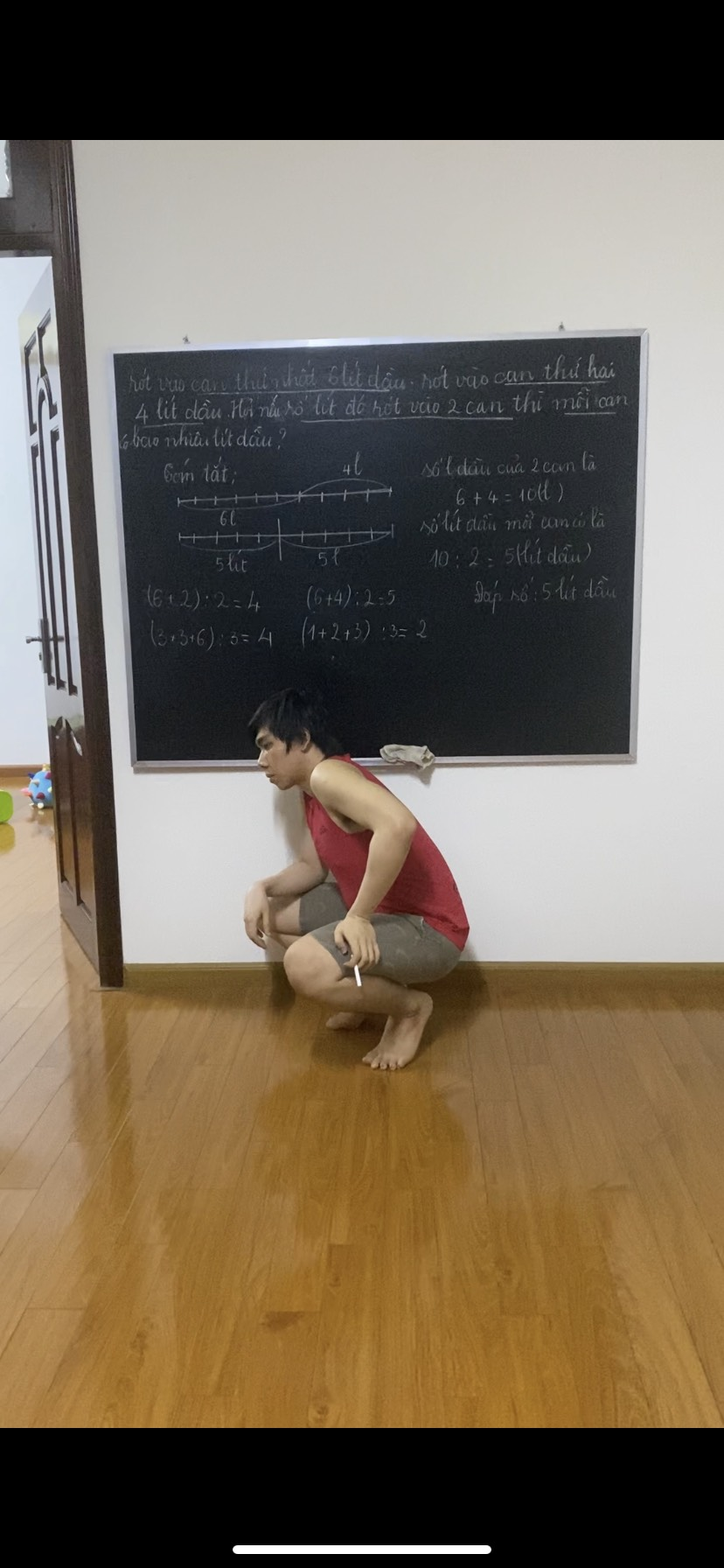cigarette: (352, 964, 366, 990)
person: (243, 691, 469, 998)
